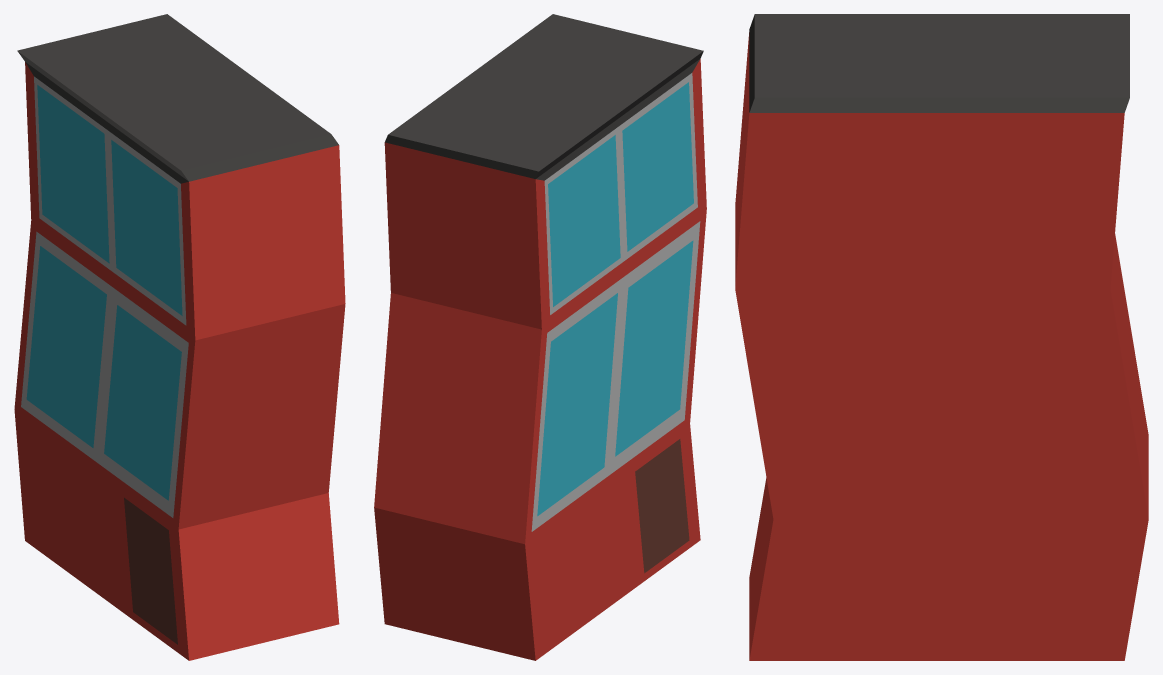
Rendered from PREDIO.fbx.
3 renders of one model, left to right at view 1: azimuth 30°, elevation 25°; view 2: azimuth 150°, elevation 25°; view 3: azimuth 270°, elevation 25°, orthographic. The views are drawn at different scales.
Visible parts, largest first — view 1: Cube; view 2: Cube; view 3: Cube.
Part boxes in pixels (bbox=[...]): Cube: bbox=[14, 14, 345, 660]; Cube: bbox=[374, 14, 706, 660]; Cube: bbox=[735, 14, 1148, 660].
Size of the model in its own units: 389 by 1169 by 782.
